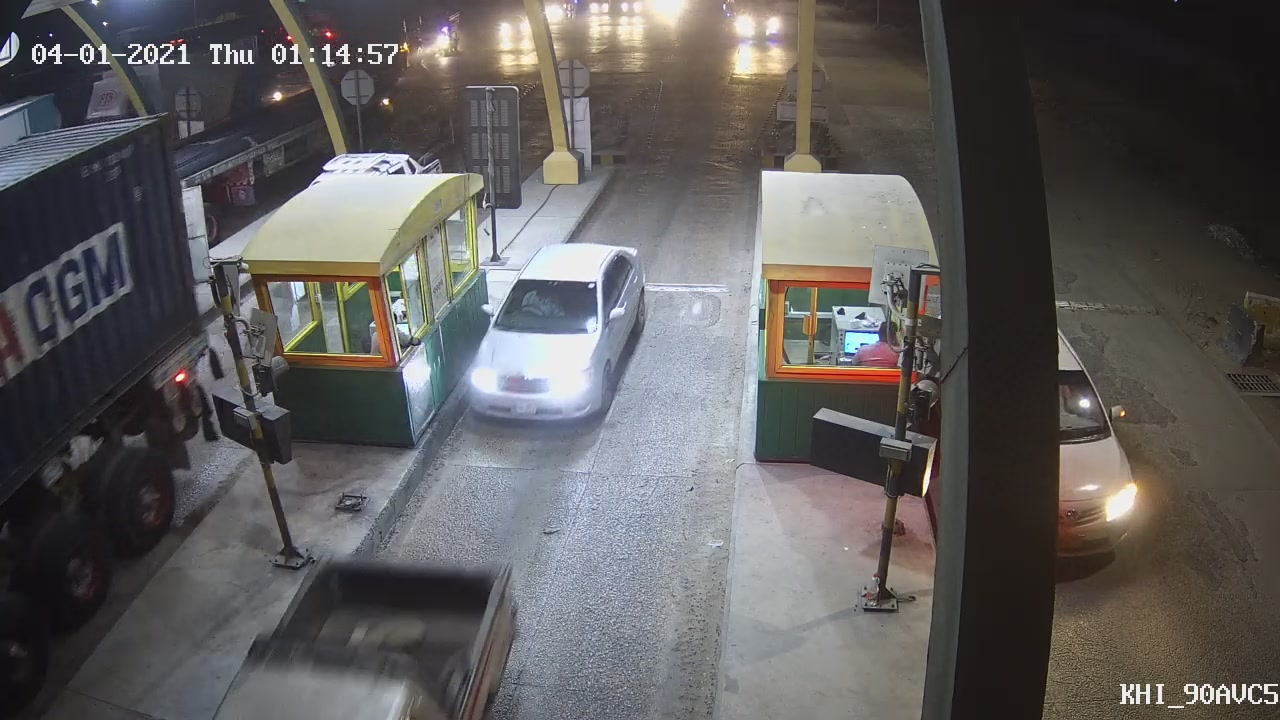F1: (453, 236, 652, 427)
